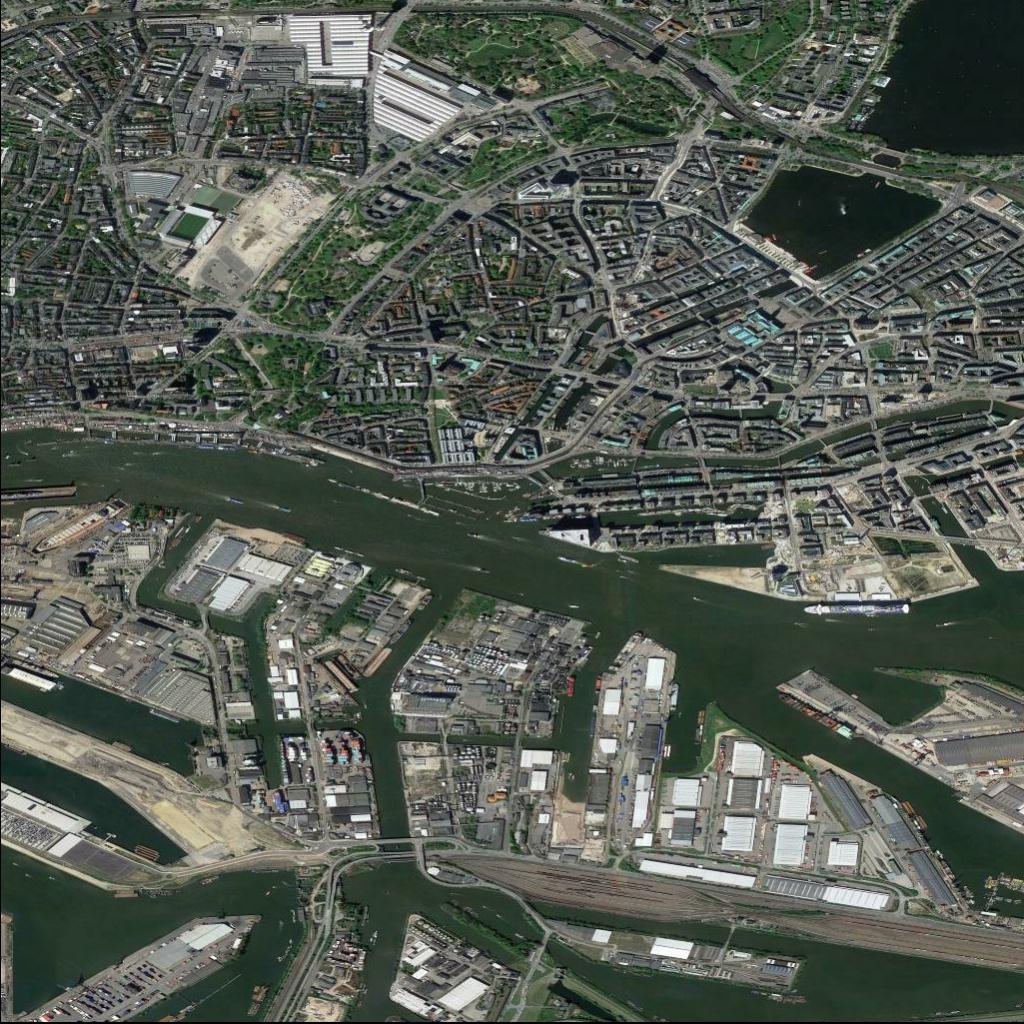ship: (33, 496, 128, 557), (777, 693, 856, 738), (804, 605, 910, 616), (332, 652, 365, 682)
